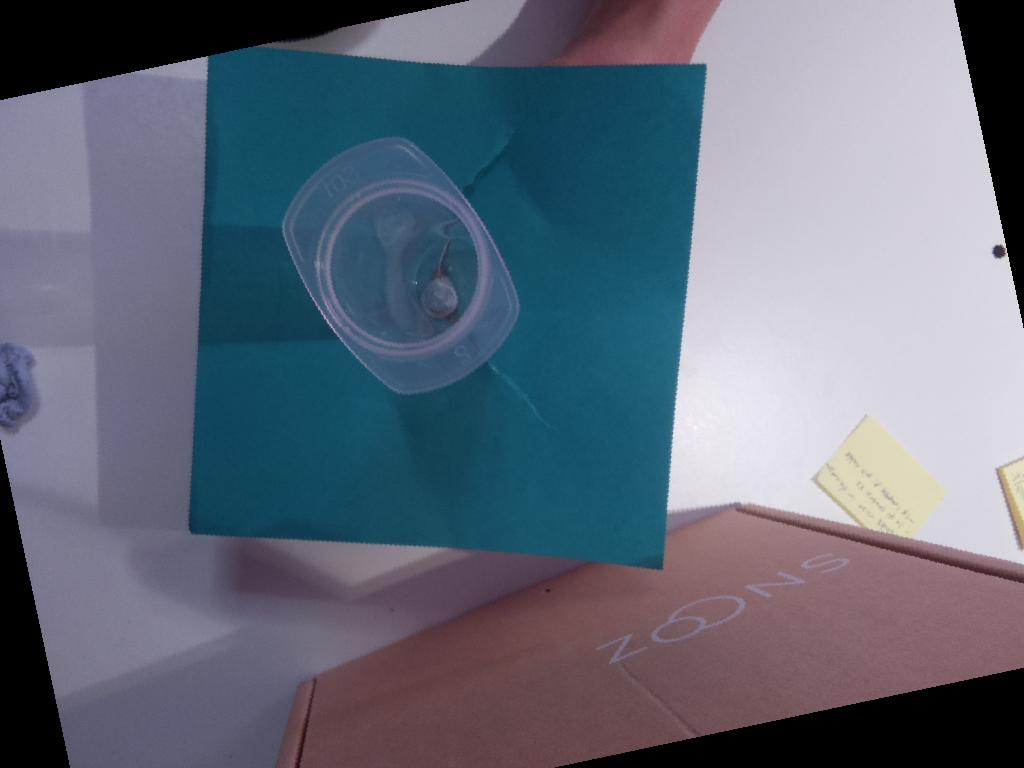clean: (280, 137, 520, 395)
